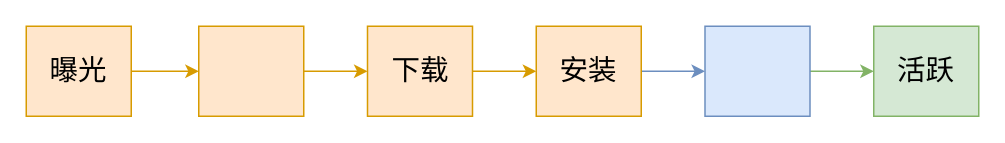
Some shapes in this 1005 by 143 pixel diagram are drawn without their labels. The shapes that lost their labels are listed below. From the top down, each one's centre as x and y in pixels, then its label:
point (250, 70): 点击
point (757, 70): 注册
